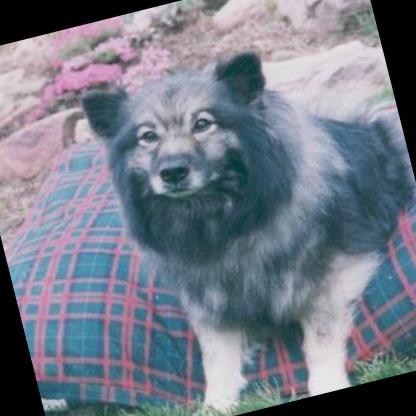keeshond: (77, 11, 416, 416)
